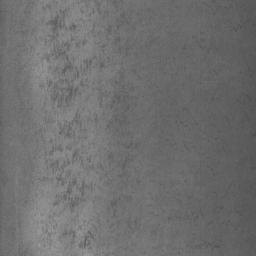Silk spot: (34, 0, 243, 256), (152, 25, 221, 84), (192, 0, 221, 15)
